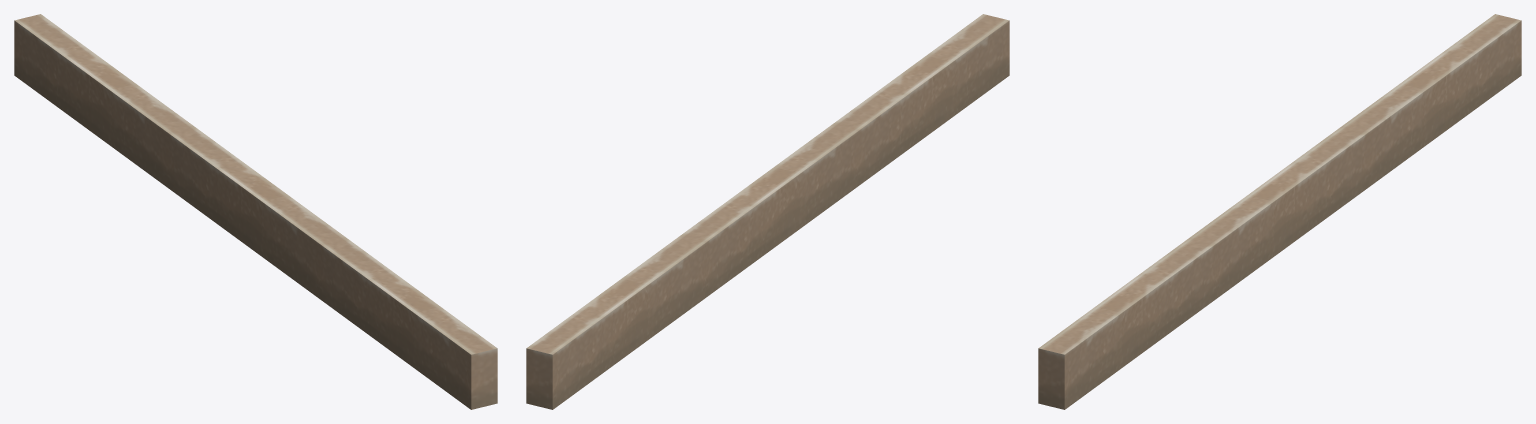
The model's file is railingEdge_3m.fbx.
The picture shows the model from 3 angles, left to right: view 1: azimuth 30°, elevation 25°; view 2: azimuth 150°, elevation 25°; view 3: azimuth 330°, elevation 25°; orthographic projection.
Visible parts, largest first — view 1: railingEdge_3m; view 2: railingEdge_3m; view 3: railingEdge_3m.
Boxes of the visible parts, x1,y1,x2,y2 form: railingEdge_3m: (14,14,497,409); railingEdge_3m: (526,14,1009,409); railingEdge_3m: (1038,14,1521,409).
Bounding box in the file's own units: 10 × 20 × 300.
